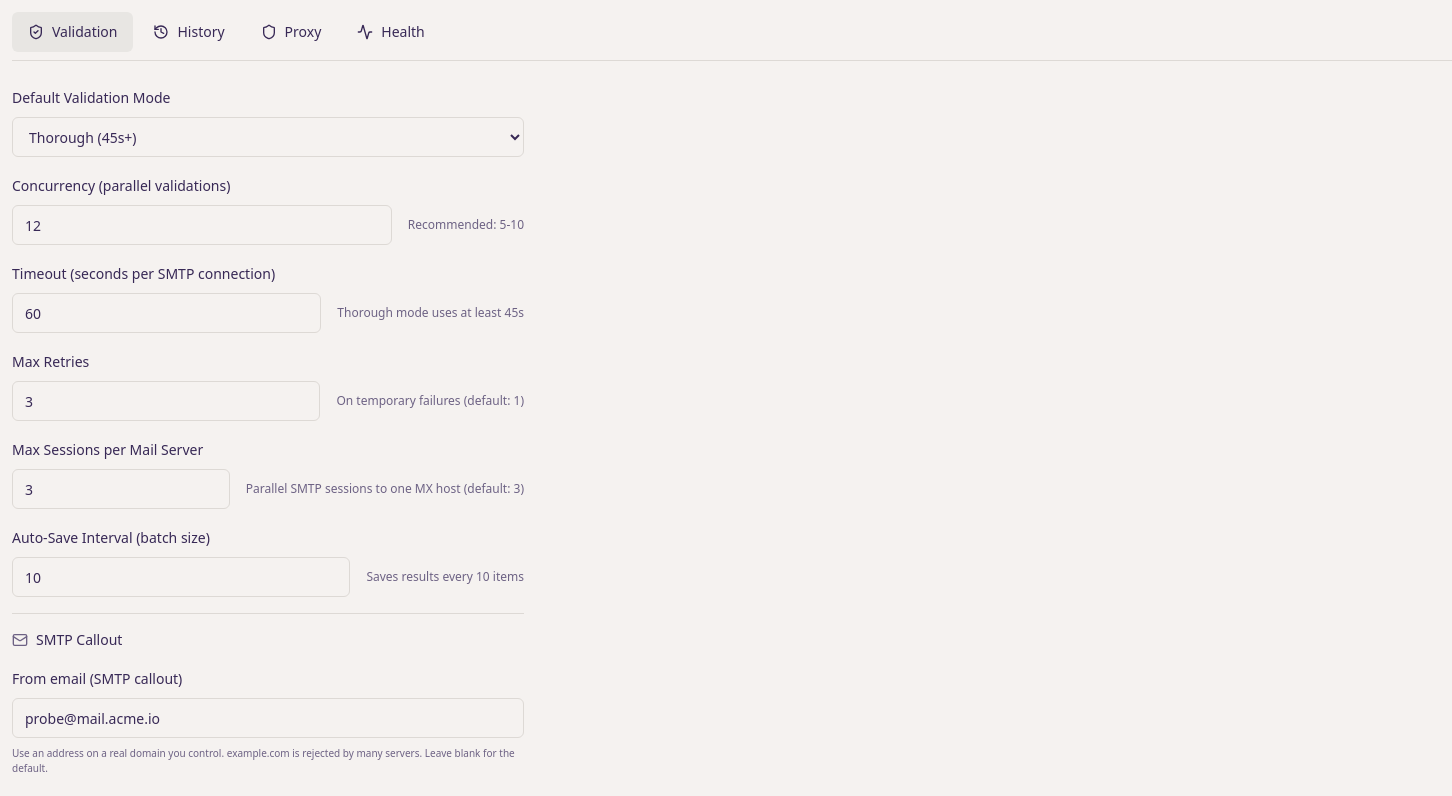
Test: Clear all proxies › is enabled when proxies exist
The width and height of the screenshot is (1452, 796).
Click the button "Proxy": (291, 32) [245, 12, 337, 52]
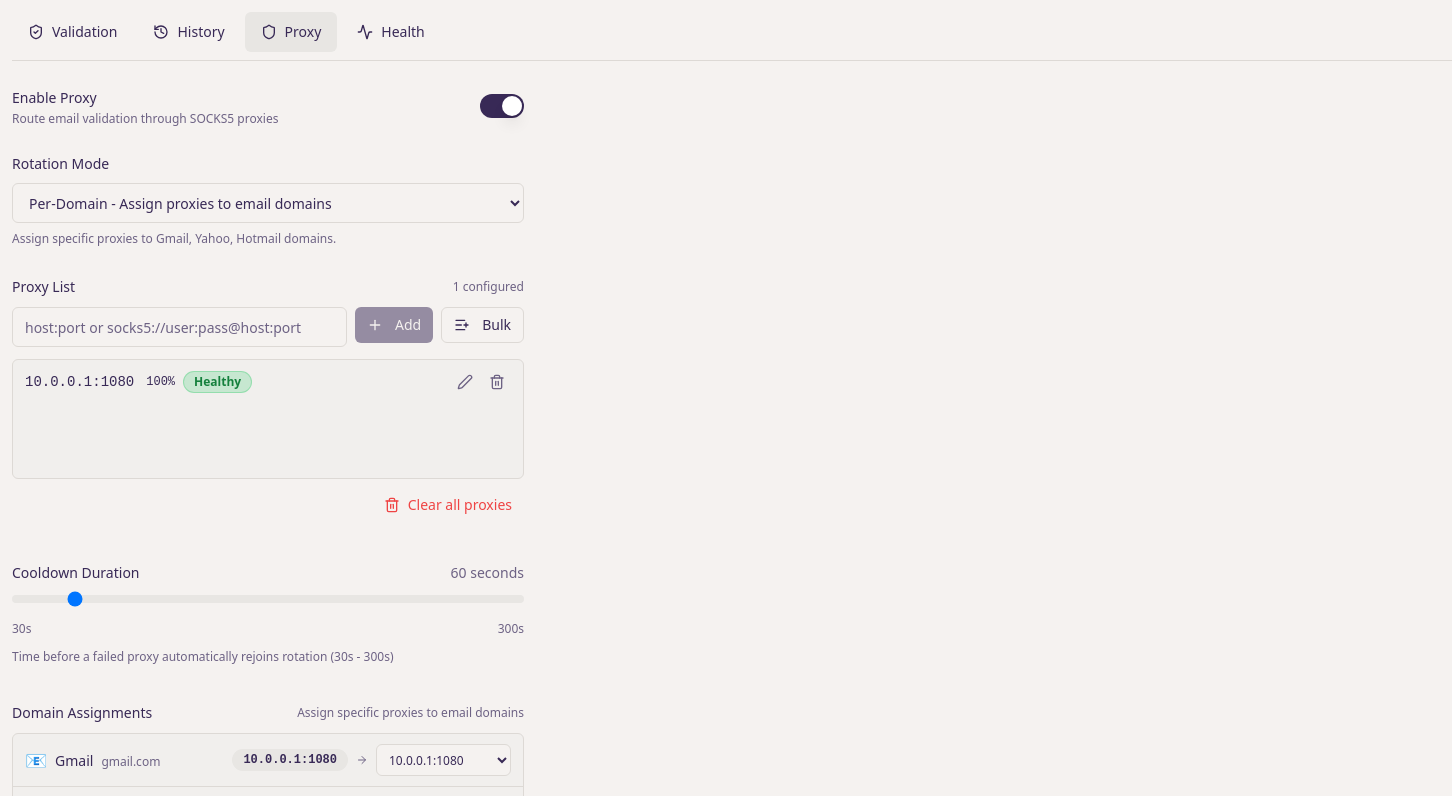
Check: the button "Clear all proxies" is enabled, box [372, 487, 524, 523]
